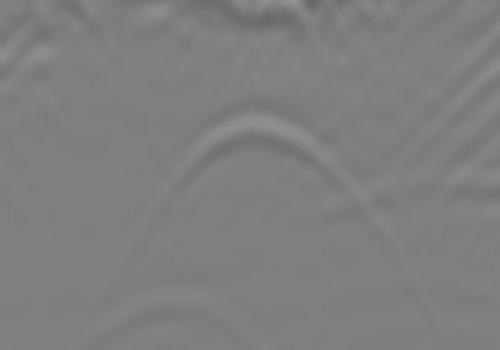hyperbola: (124, 110, 403, 263)
